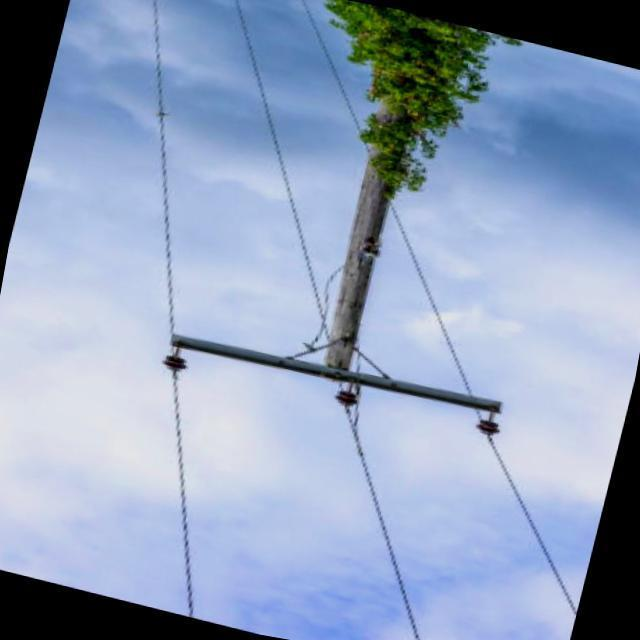critical vegetation: (317, 1, 482, 220)
